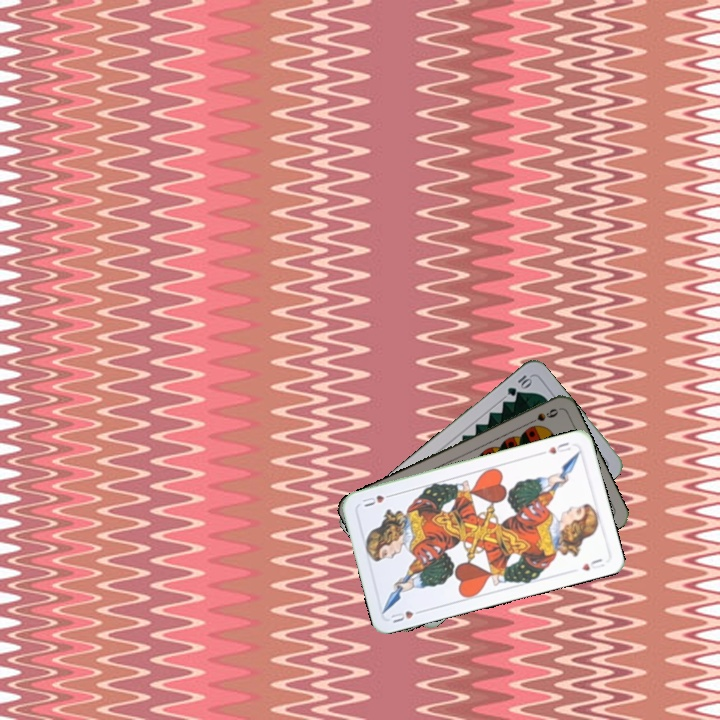G10: (503, 371, 535, 399)
HU: (387, 605, 426, 626), (544, 438, 573, 456)
S9: (522, 404, 561, 428)
